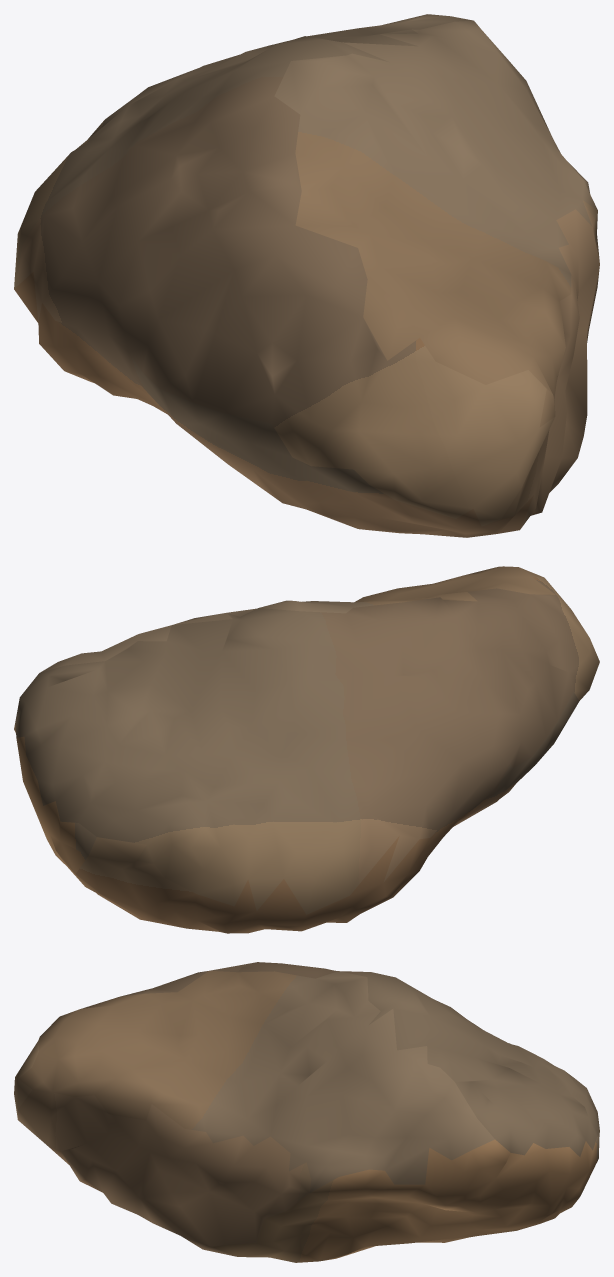
The model's file is ph_rock_1.glb.
3 views of the same model, one above another, from view 1: azimuth 30°, elevation 25°; view 2: azimuth 150°, elevation 25°; view 3: azimuth 270°, elevation 25° (orthographic). The views are drawn at different scales.
Parts seen in each view (by area): view 1: ph_rock_1_lod1; view 2: ph_rock_1_lod1; view 3: ph_rock_1_lod1.
Part boxes in pixels (<box>): ph_rock_1_lod1: <box>14,14,599,537</box>; ph_rock_1_lod1: <box>14,566,599,933</box>; ph_rock_1_lod1: <box>14,962,599,1262</box>.
Bounding box in the file's own units: 0.3619 × 0.252 × 0.5499.
Materials: 1 (1 with a texture image).
